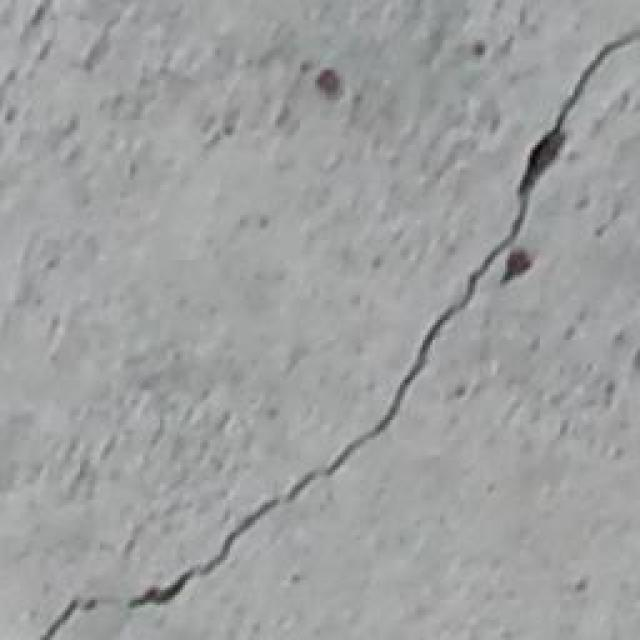concrete-crack: (38, 25, 640, 640), (505, 248, 535, 285)
